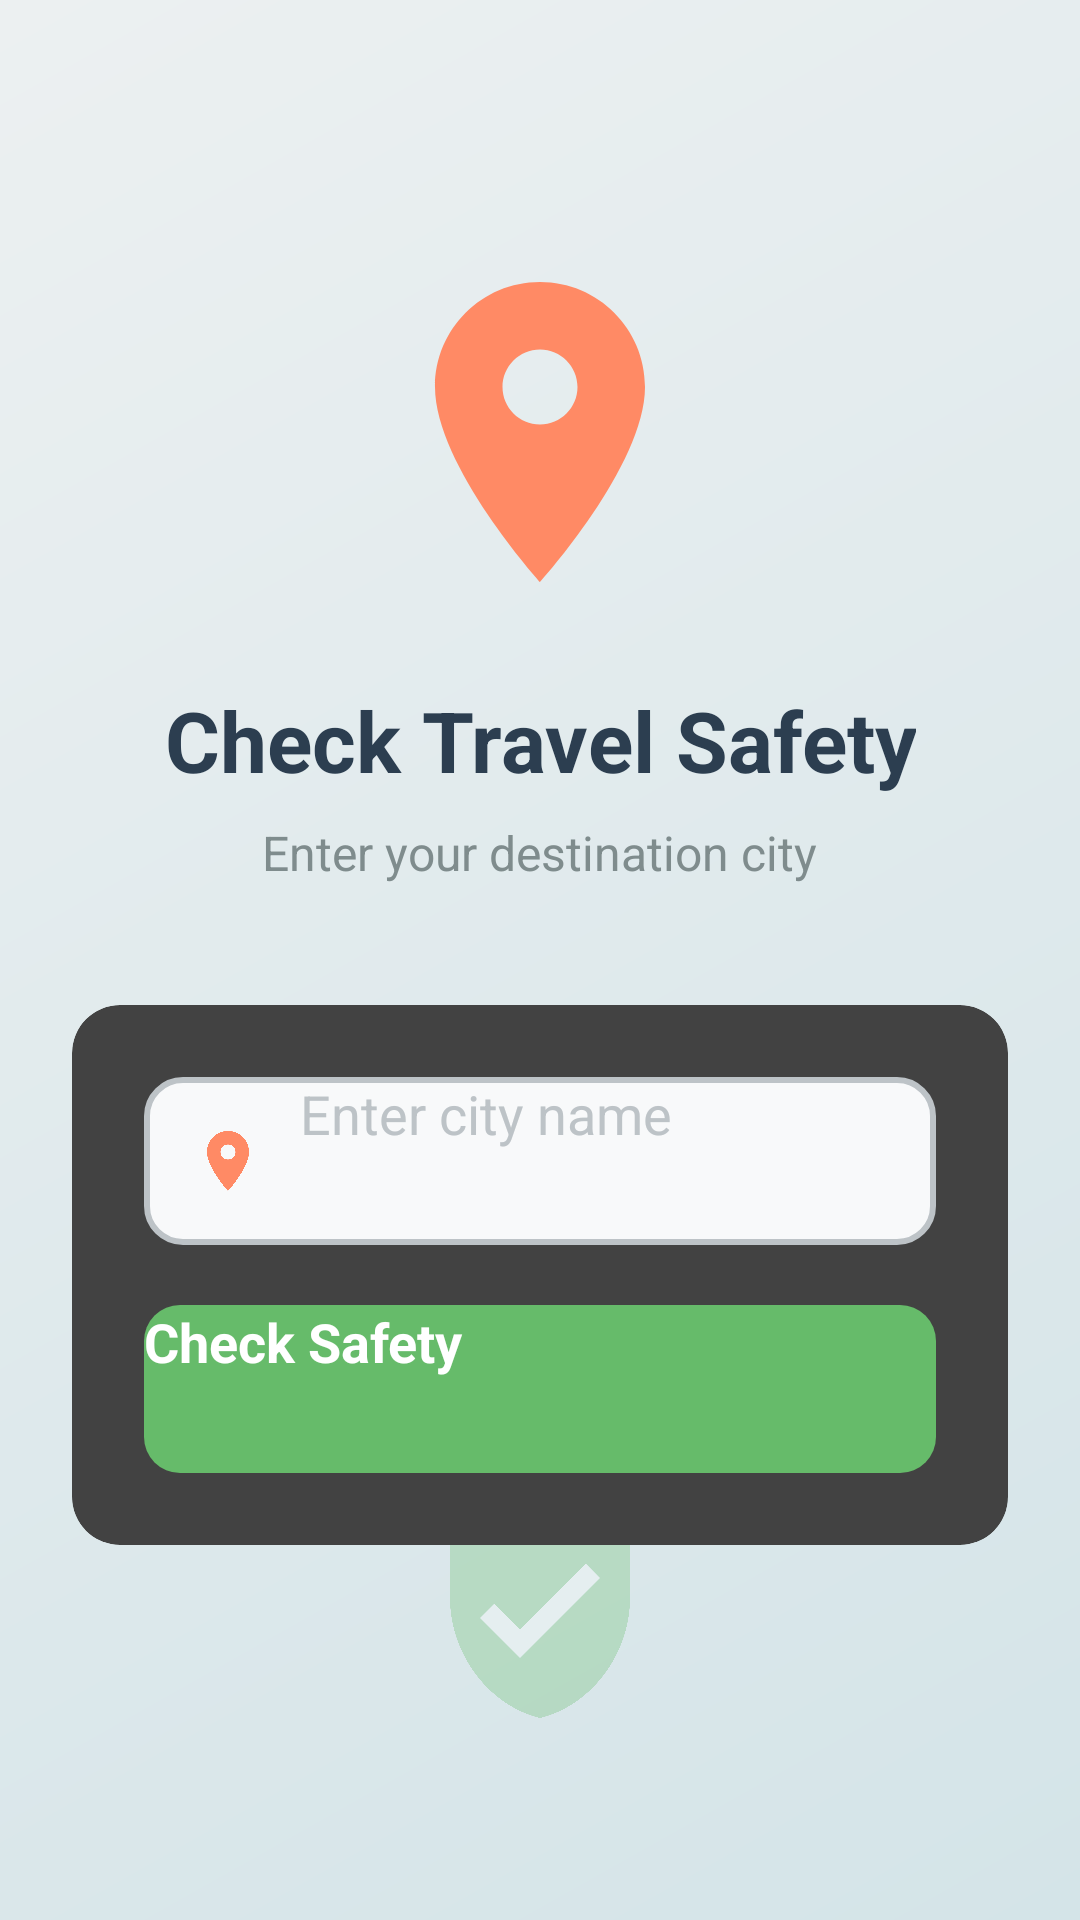

Point at icon controls on the screen. Image size 1080px x 1920px, points as [x,y].
Map location icon: [540,432]
